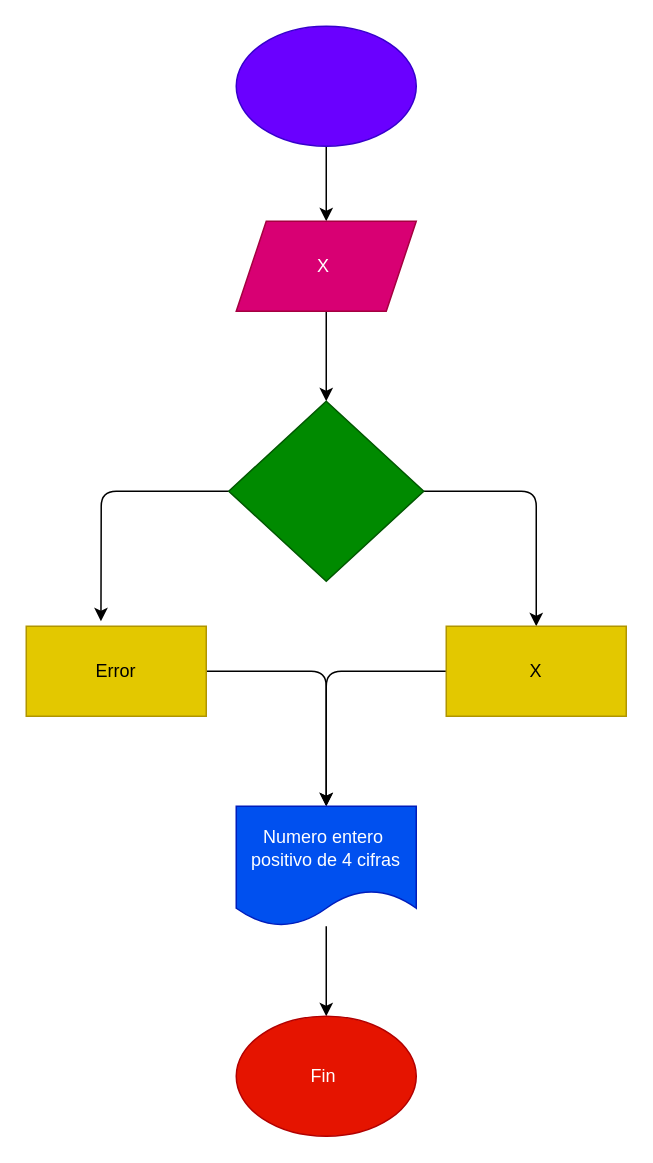
Image size: 653x1163. Some labels were removed from this diagram. Here are the shapes that lost their labels. From the top down, the centre of each, then its label:
At point 325,85: "Inicio".
At point 325,490: "X>0 Y X >999".
